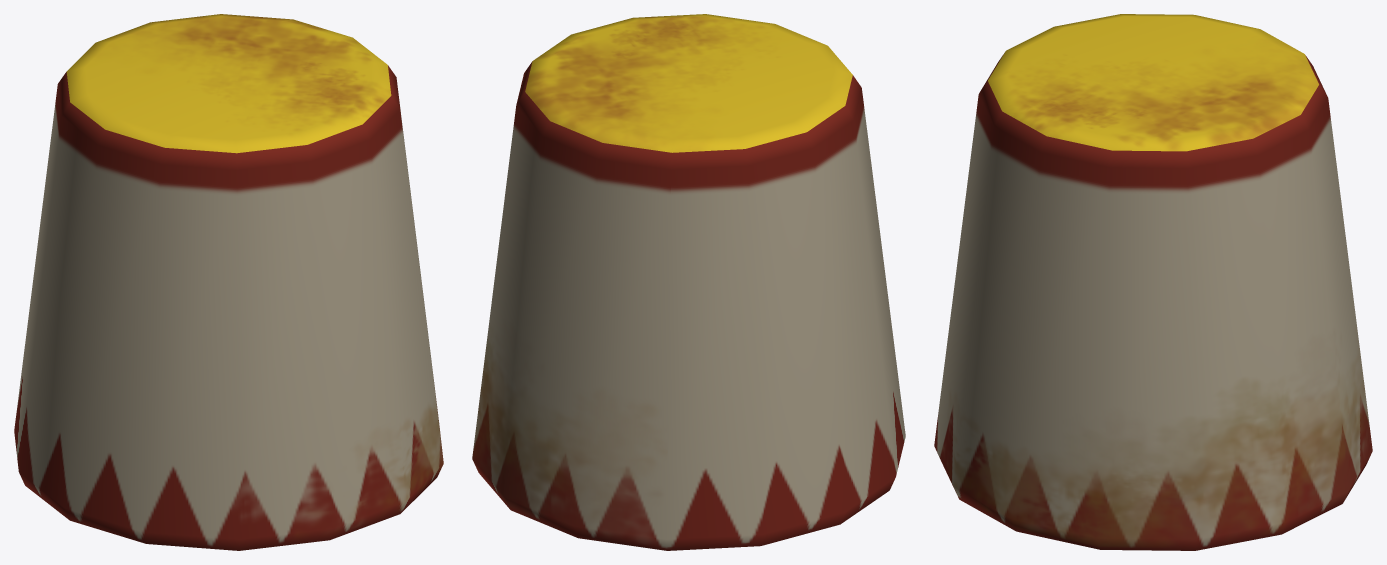
The model's file is Stoolset_Cylinder_Scaled.fbx.
3 views of the same model, side by side, from view 1: azimuth 30°, elevation 25°; view 2: azimuth 150°, elevation 25°; view 3: azimuth 270°, elevation 25° (orthographic).
Visible parts, largest first — view 1: CircusStool_Cylinder; view 2: CircusStool_Cylinder; view 3: CircusStool_Cylinder.
Boxes of the visible parts, box(x1,y1,x2,y2) form: CircusStool_Cylinder: box(14, 14, 443, 550); CircusStool_Cylinder: box(472, 14, 905, 550); CircusStool_Cylinder: box(934, 14, 1372, 550).
Bounding box in the file's own units: 8.48 × 8.52 × 8.65.
